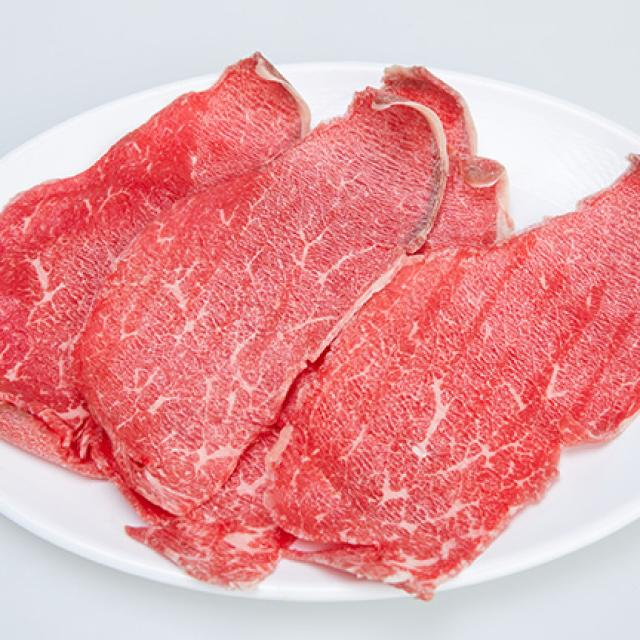beef: (296, 139, 516, 517), (25, 209, 317, 466)
